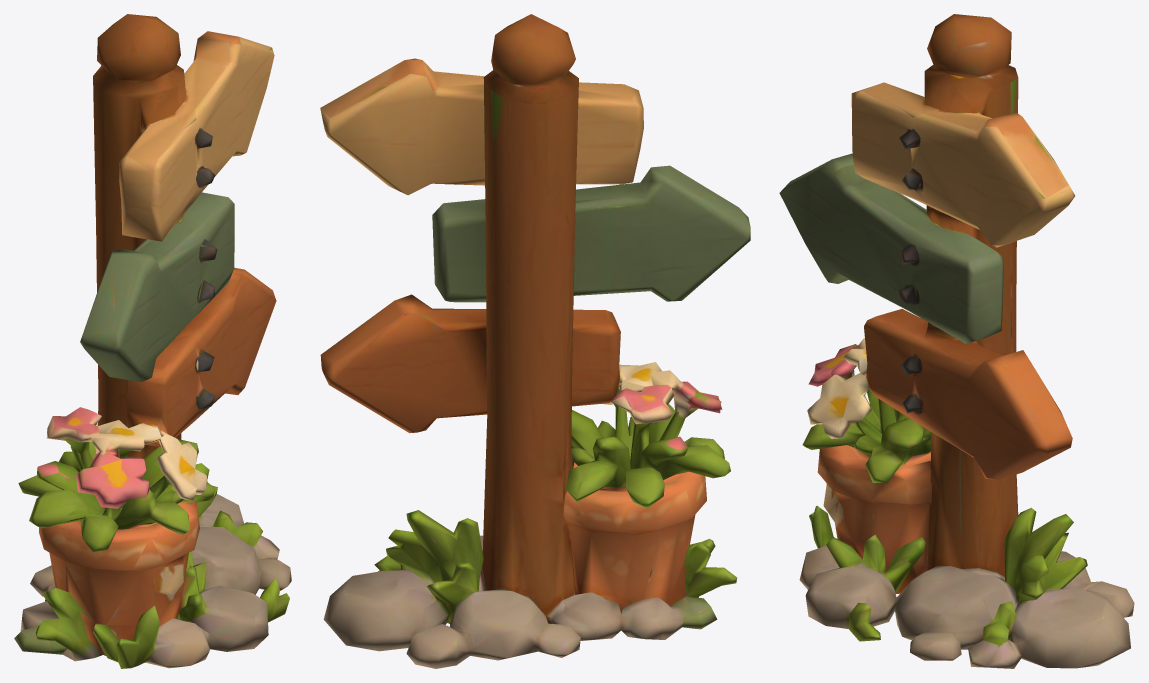
3 renders of one model, left to right at view 1: azimuth 30°, elevation 25°; view 2: azimuth 150°, elevation 25°; view 3: azimuth 270°, elevation 25°, orthographic.
Parts seen in each view (by area): view 1: signpost; view 2: signpost; view 3: signpost.
Part boxes in pixels (x1,y1,x2,y2): signpost: (14,14,291,668); signpost: (320,14,750,668); signpost: (779,14,1134,668).
Bounding box in the file's own units: 1.28 × 2.2 × 1.21.
1 material, 1 textured.
